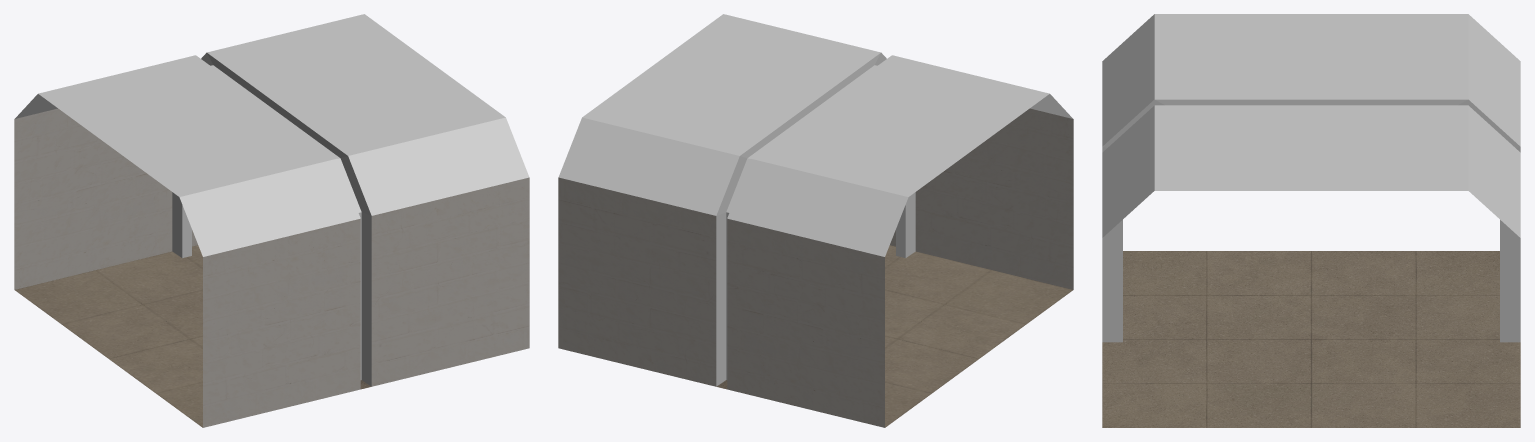
The model's file is Couloir Simple.fbx.
The picture shows the model from 3 angles, left to right: view 1: azimuth 30°, elevation 25°; view 2: azimuth 150°, elevation 25°; view 3: azimuth 270°, elevation 25°; orthographic projection. The views are drawn at different scales.
Parts seen in each view (by area): view 1: Couloir; view 2: Couloir; view 3: Couloir.
Part boxes in pixels (x1,y1,x2,y2): Couloir: [14, 14, 529, 427]; Couloir: [558, 14, 1073, 427]; Couloir: [1102, 14, 1520, 427].
Size of the model in its own units: 800 by 500 by 800.
